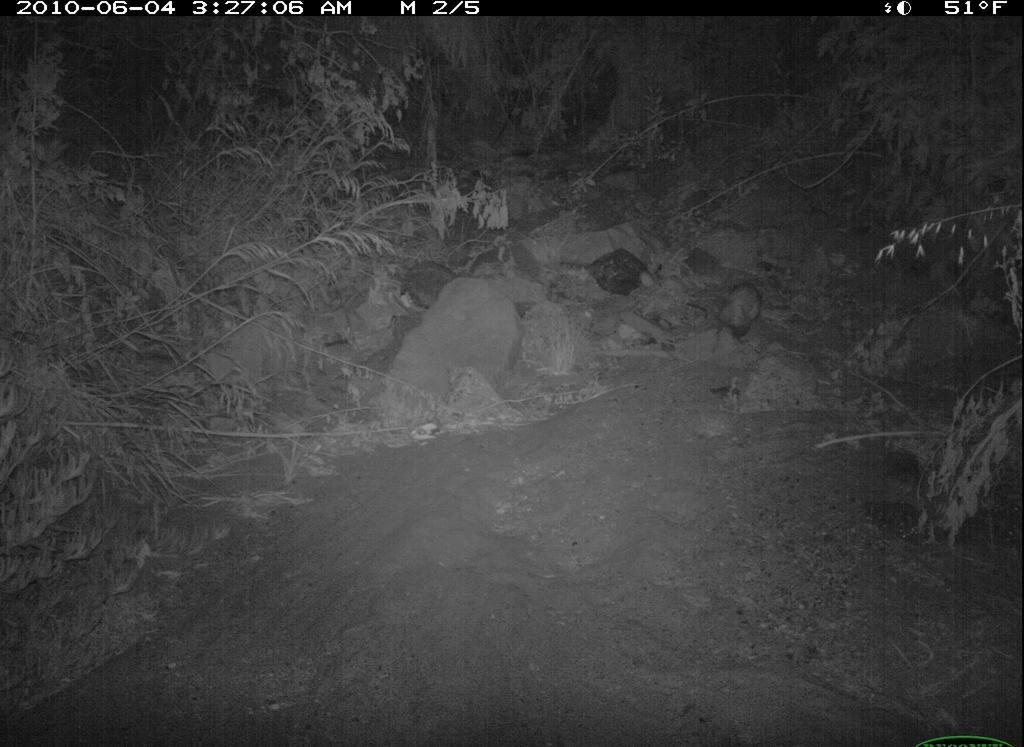opossum: (703, 273, 779, 369)
